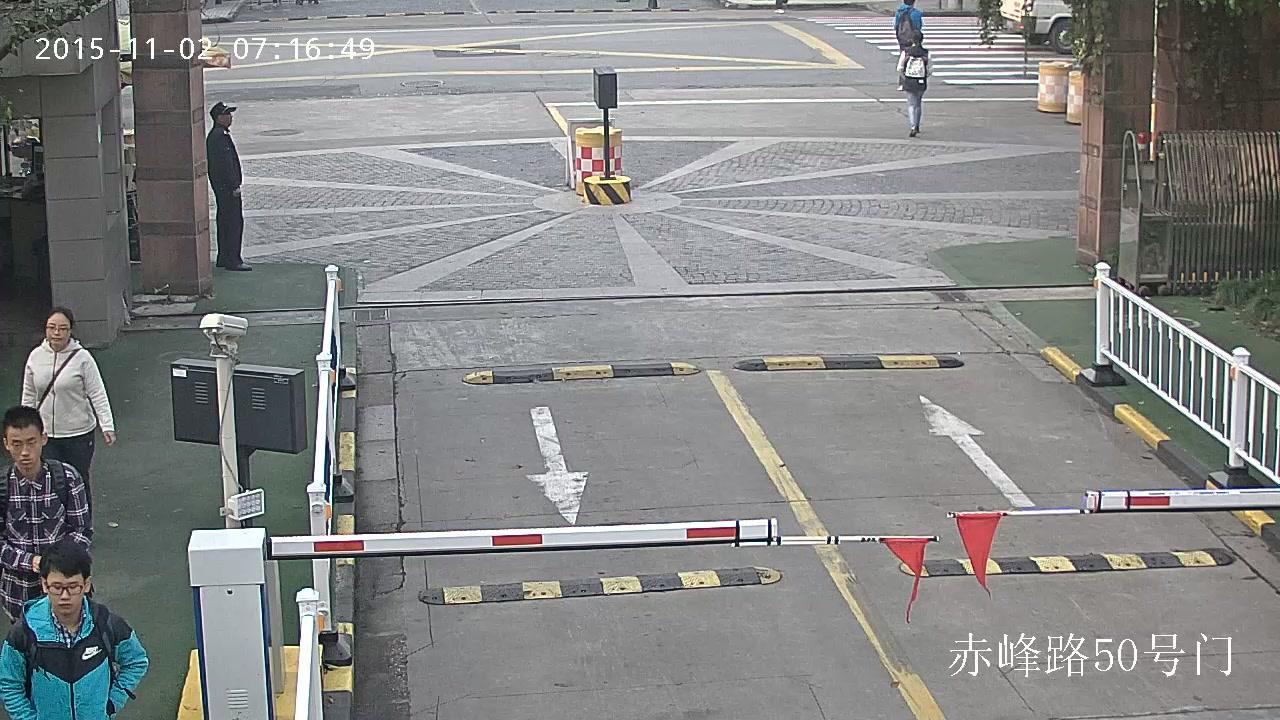person: (0, 543, 147, 720), (0, 405, 92, 631), (20, 307, 114, 517), (207, 100, 253, 269), (896, 30, 930, 137), (894, 0, 922, 91)
